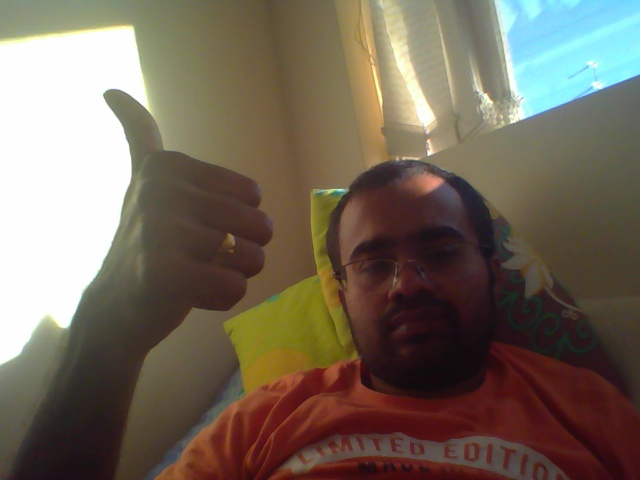ThumbsUp: (96, 84, 278, 353)
